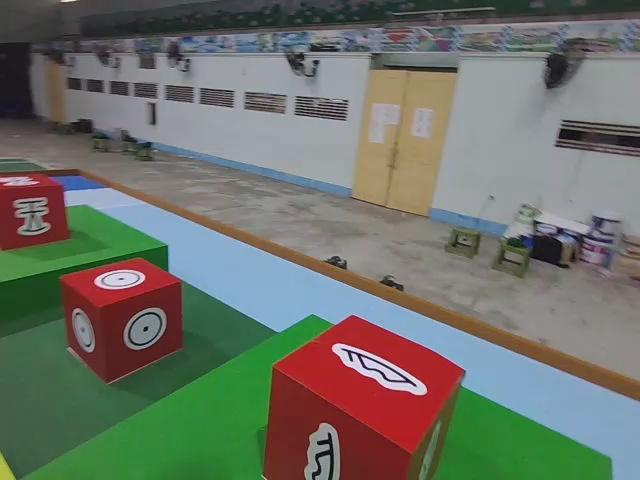R2 Real: (261, 313, 466, 480), (59, 253, 187, 383), (0, 169, 72, 254)
